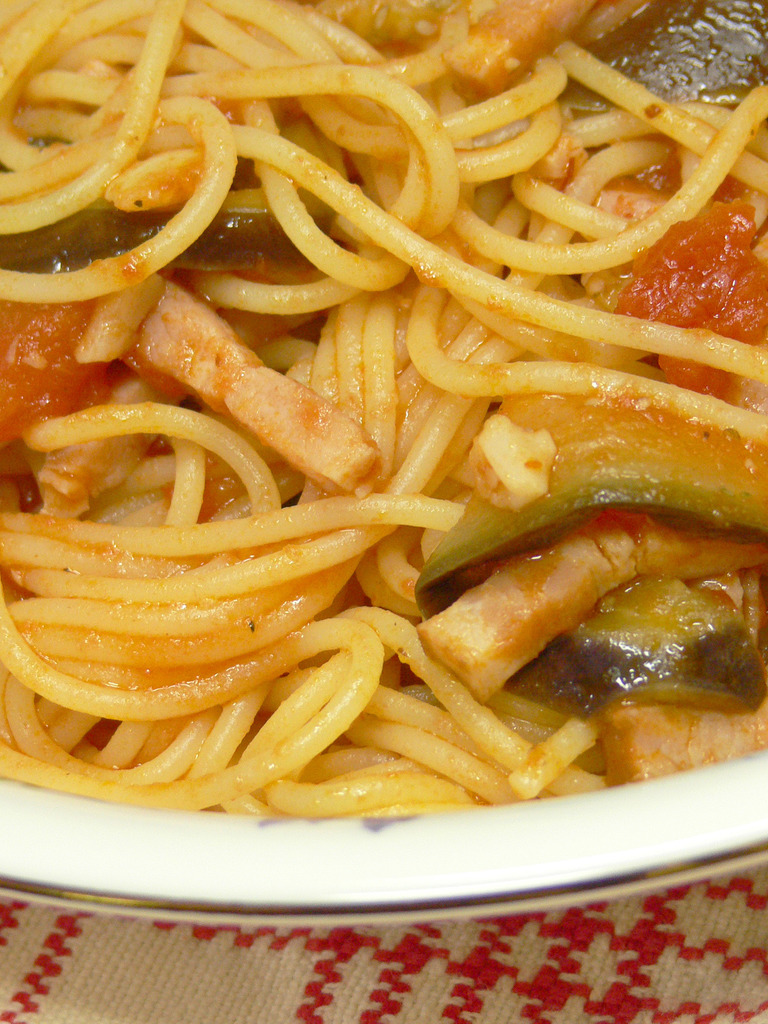pasta: (0, 0, 767, 819)
